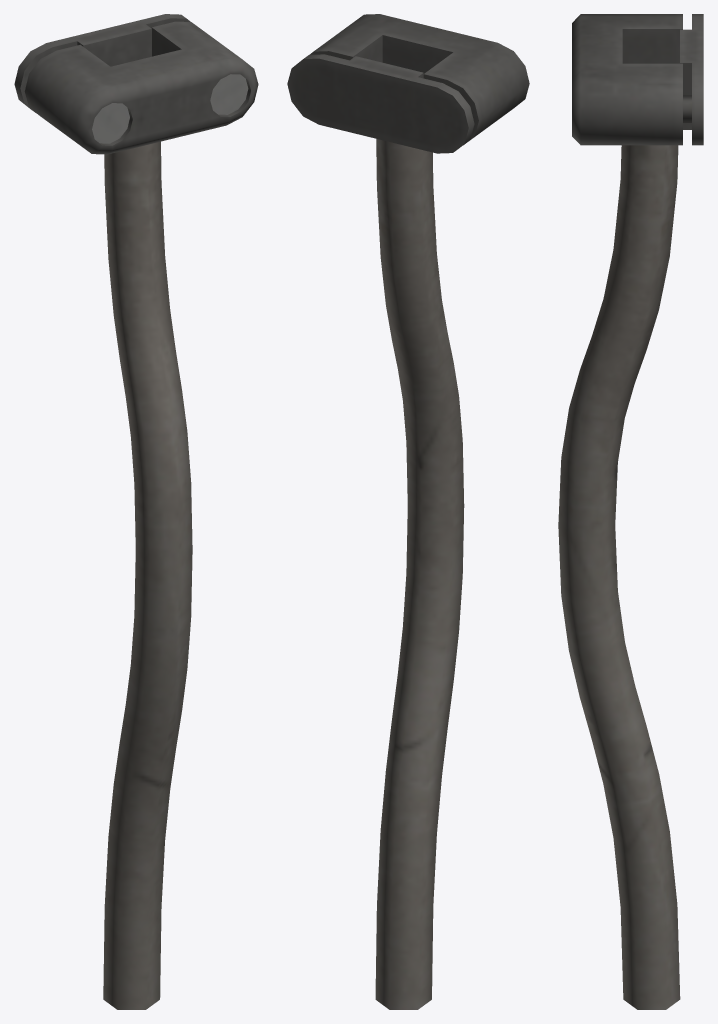
Rendered from cable_cable_bridge_2.fbx.
3 views of the same model, side by side, from view 1: azimuth 30°, elevation 25°; view 2: azimuth 150°, elevation 25°; view 3: azimuth 270°, elevation 25° (orthographic).
Parts seen in each view (by area): view 1: modular_electric_cables__cable_bridge_2; view 2: modular_electric_cables__cable_bridge_2; view 3: modular_electric_cables__cable_bridge_2.
Boxes of the visible parts, x1,y1,x2,y2 form: modular_electric_cables__cable_bridge_2: (14, 14, 258, 1009); modular_electric_cables__cable_bridge_2: (287, 14, 529, 1009); modular_electric_cables__cable_bridge_2: (558, 14, 703, 1009).
Size of the model in its own units: 0.0416 by 0.2073 by 0.0286.
